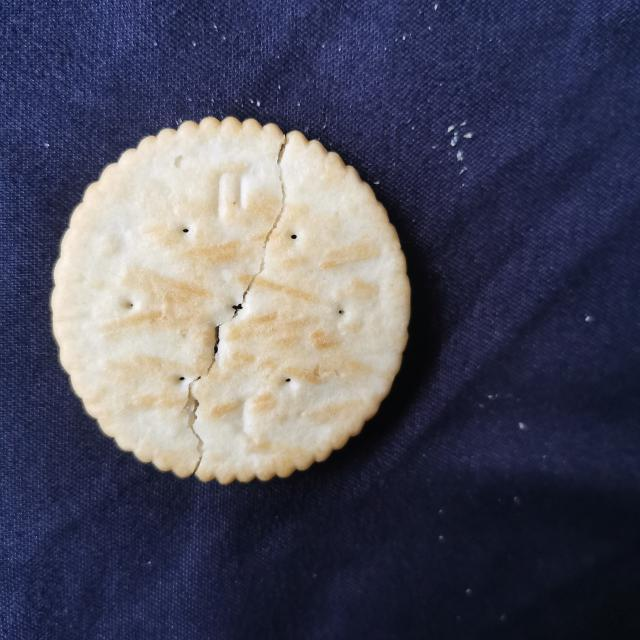Fracture: (161, 118, 312, 485)
